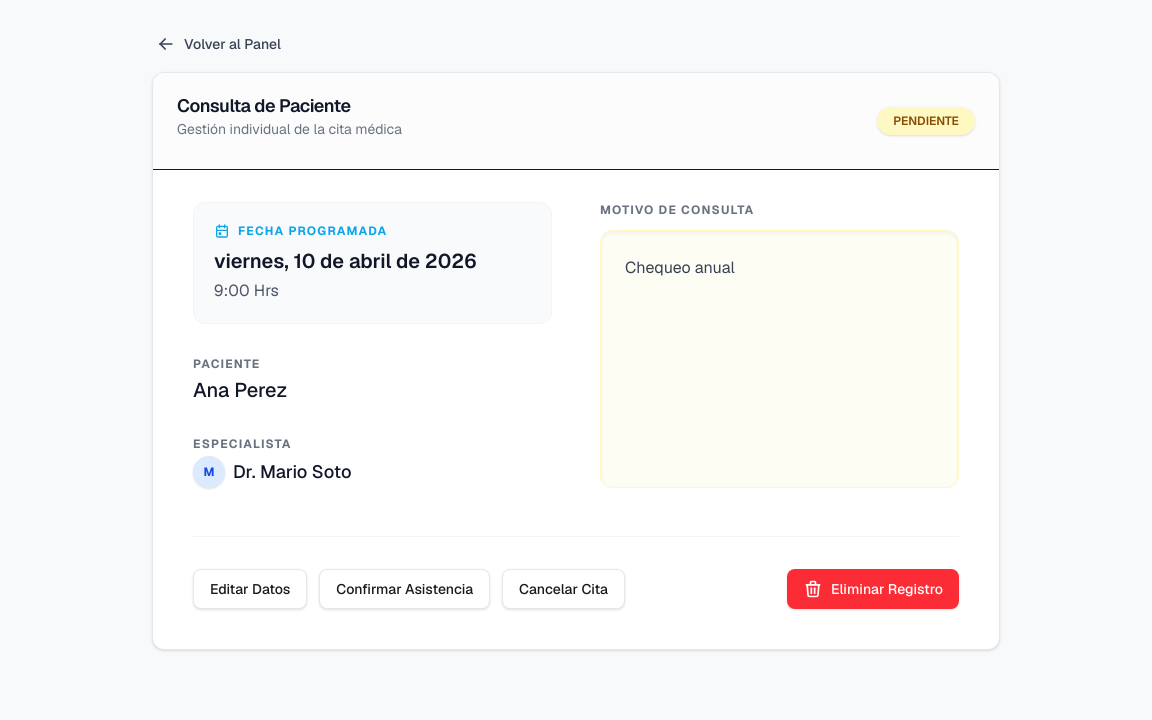
Test: AppointmentDetailPage › abre el modal de eliminacion al pulsar Eliminar Registro
Click the button "Eliminar Registro" at (873, 589), box x1=787 y1=569 x2=959 y2=609
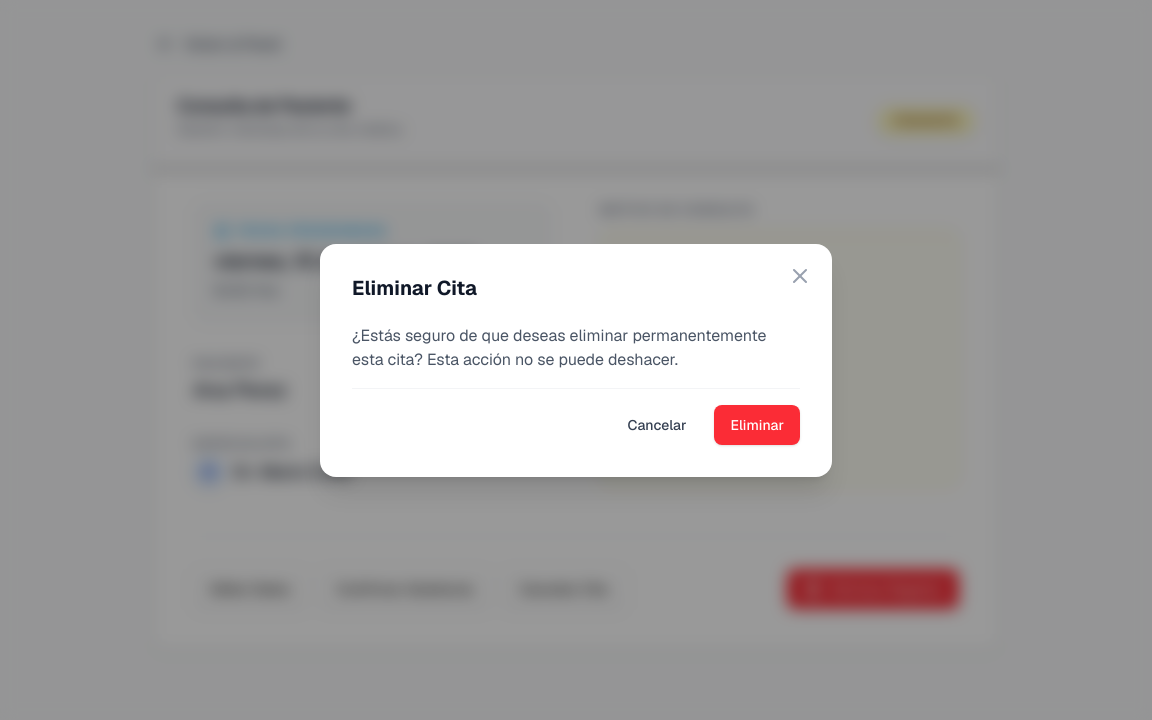
expect the text "¿Estás seguro de que deseas eliminar permanentemente esta cita? Esta acción no se puede deshacer." is shown: met, box x1=352 y1=324 x2=766 y2=370
